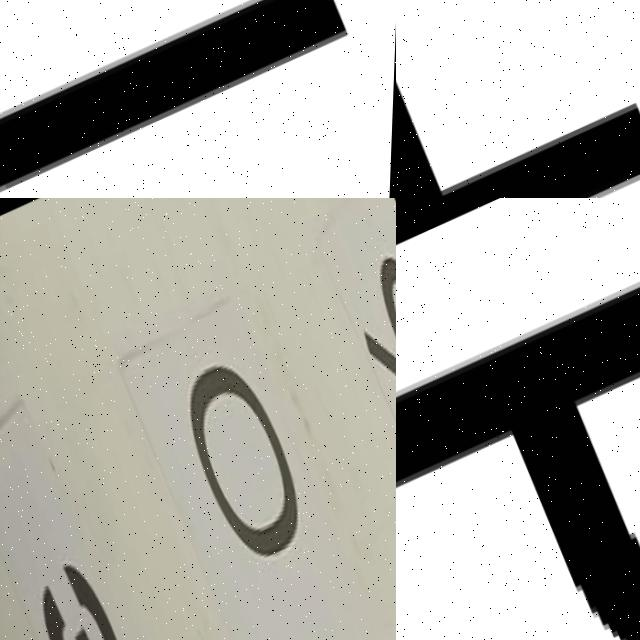0: (147, 325, 342, 594)
3: (0, 523, 174, 640)
9: (323, 227, 396, 461)
H: (396, 0, 640, 198)
J: (0, 0, 368, 198)
P: (396, 287, 640, 640)
